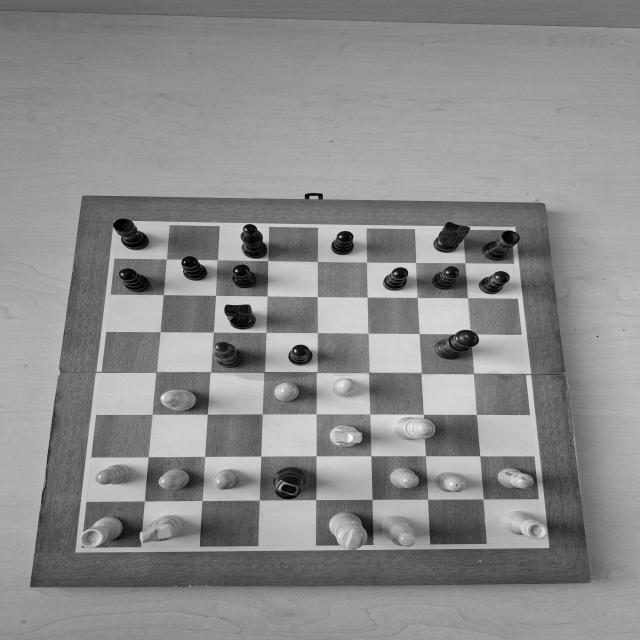chess-table-corners: (68, 538, 95, 557), (499, 222, 522, 240), (532, 536, 552, 552), (110, 218, 128, 230)
